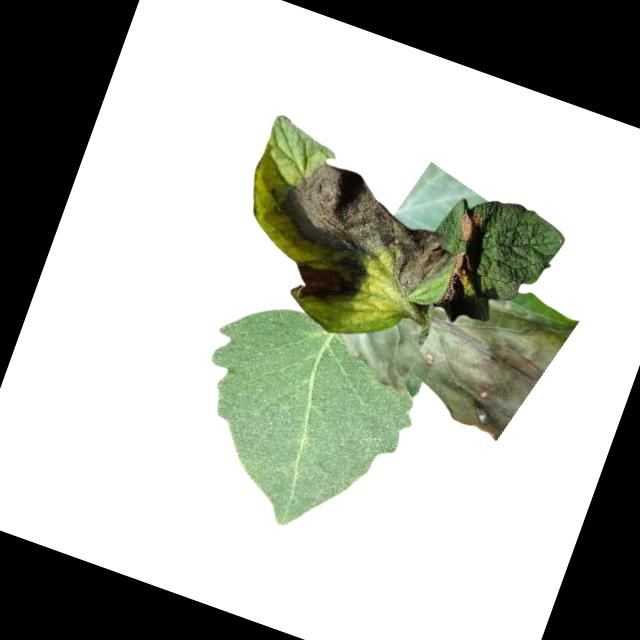Late_blight: (322, 252, 578, 451), (271, 152, 467, 297), (286, 255, 358, 314), (454, 206, 491, 246), (446, 248, 478, 289)
